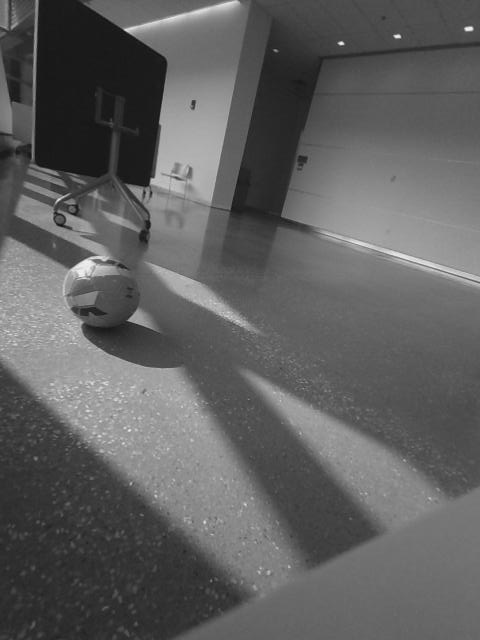ball: (63, 252, 145, 332)
